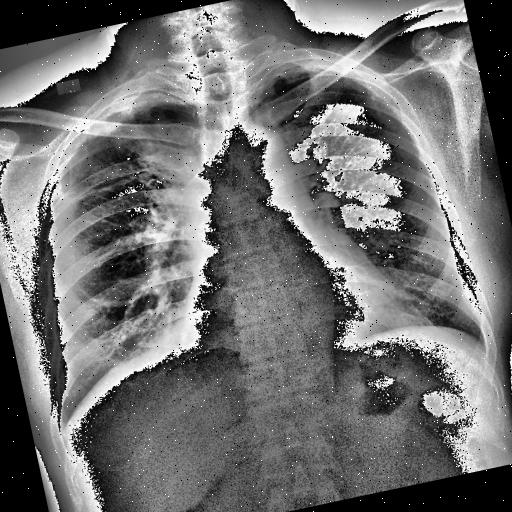11- Pleural thickening: (34, 81, 210, 210), (32, 82, 194, 204), (246, 39, 400, 143), (249, 36, 386, 111), (32, 130, 102, 214), (288, 44, 370, 96)
13- Pulmonary fibrosis: (81, 88, 171, 164), (59, 174, 141, 241), (108, 116, 180, 180), (339, 90, 397, 140)
3- Cardiomegaly: (174, 268, 407, 382)
7- Lung Opacity: (81, 88, 171, 164)
